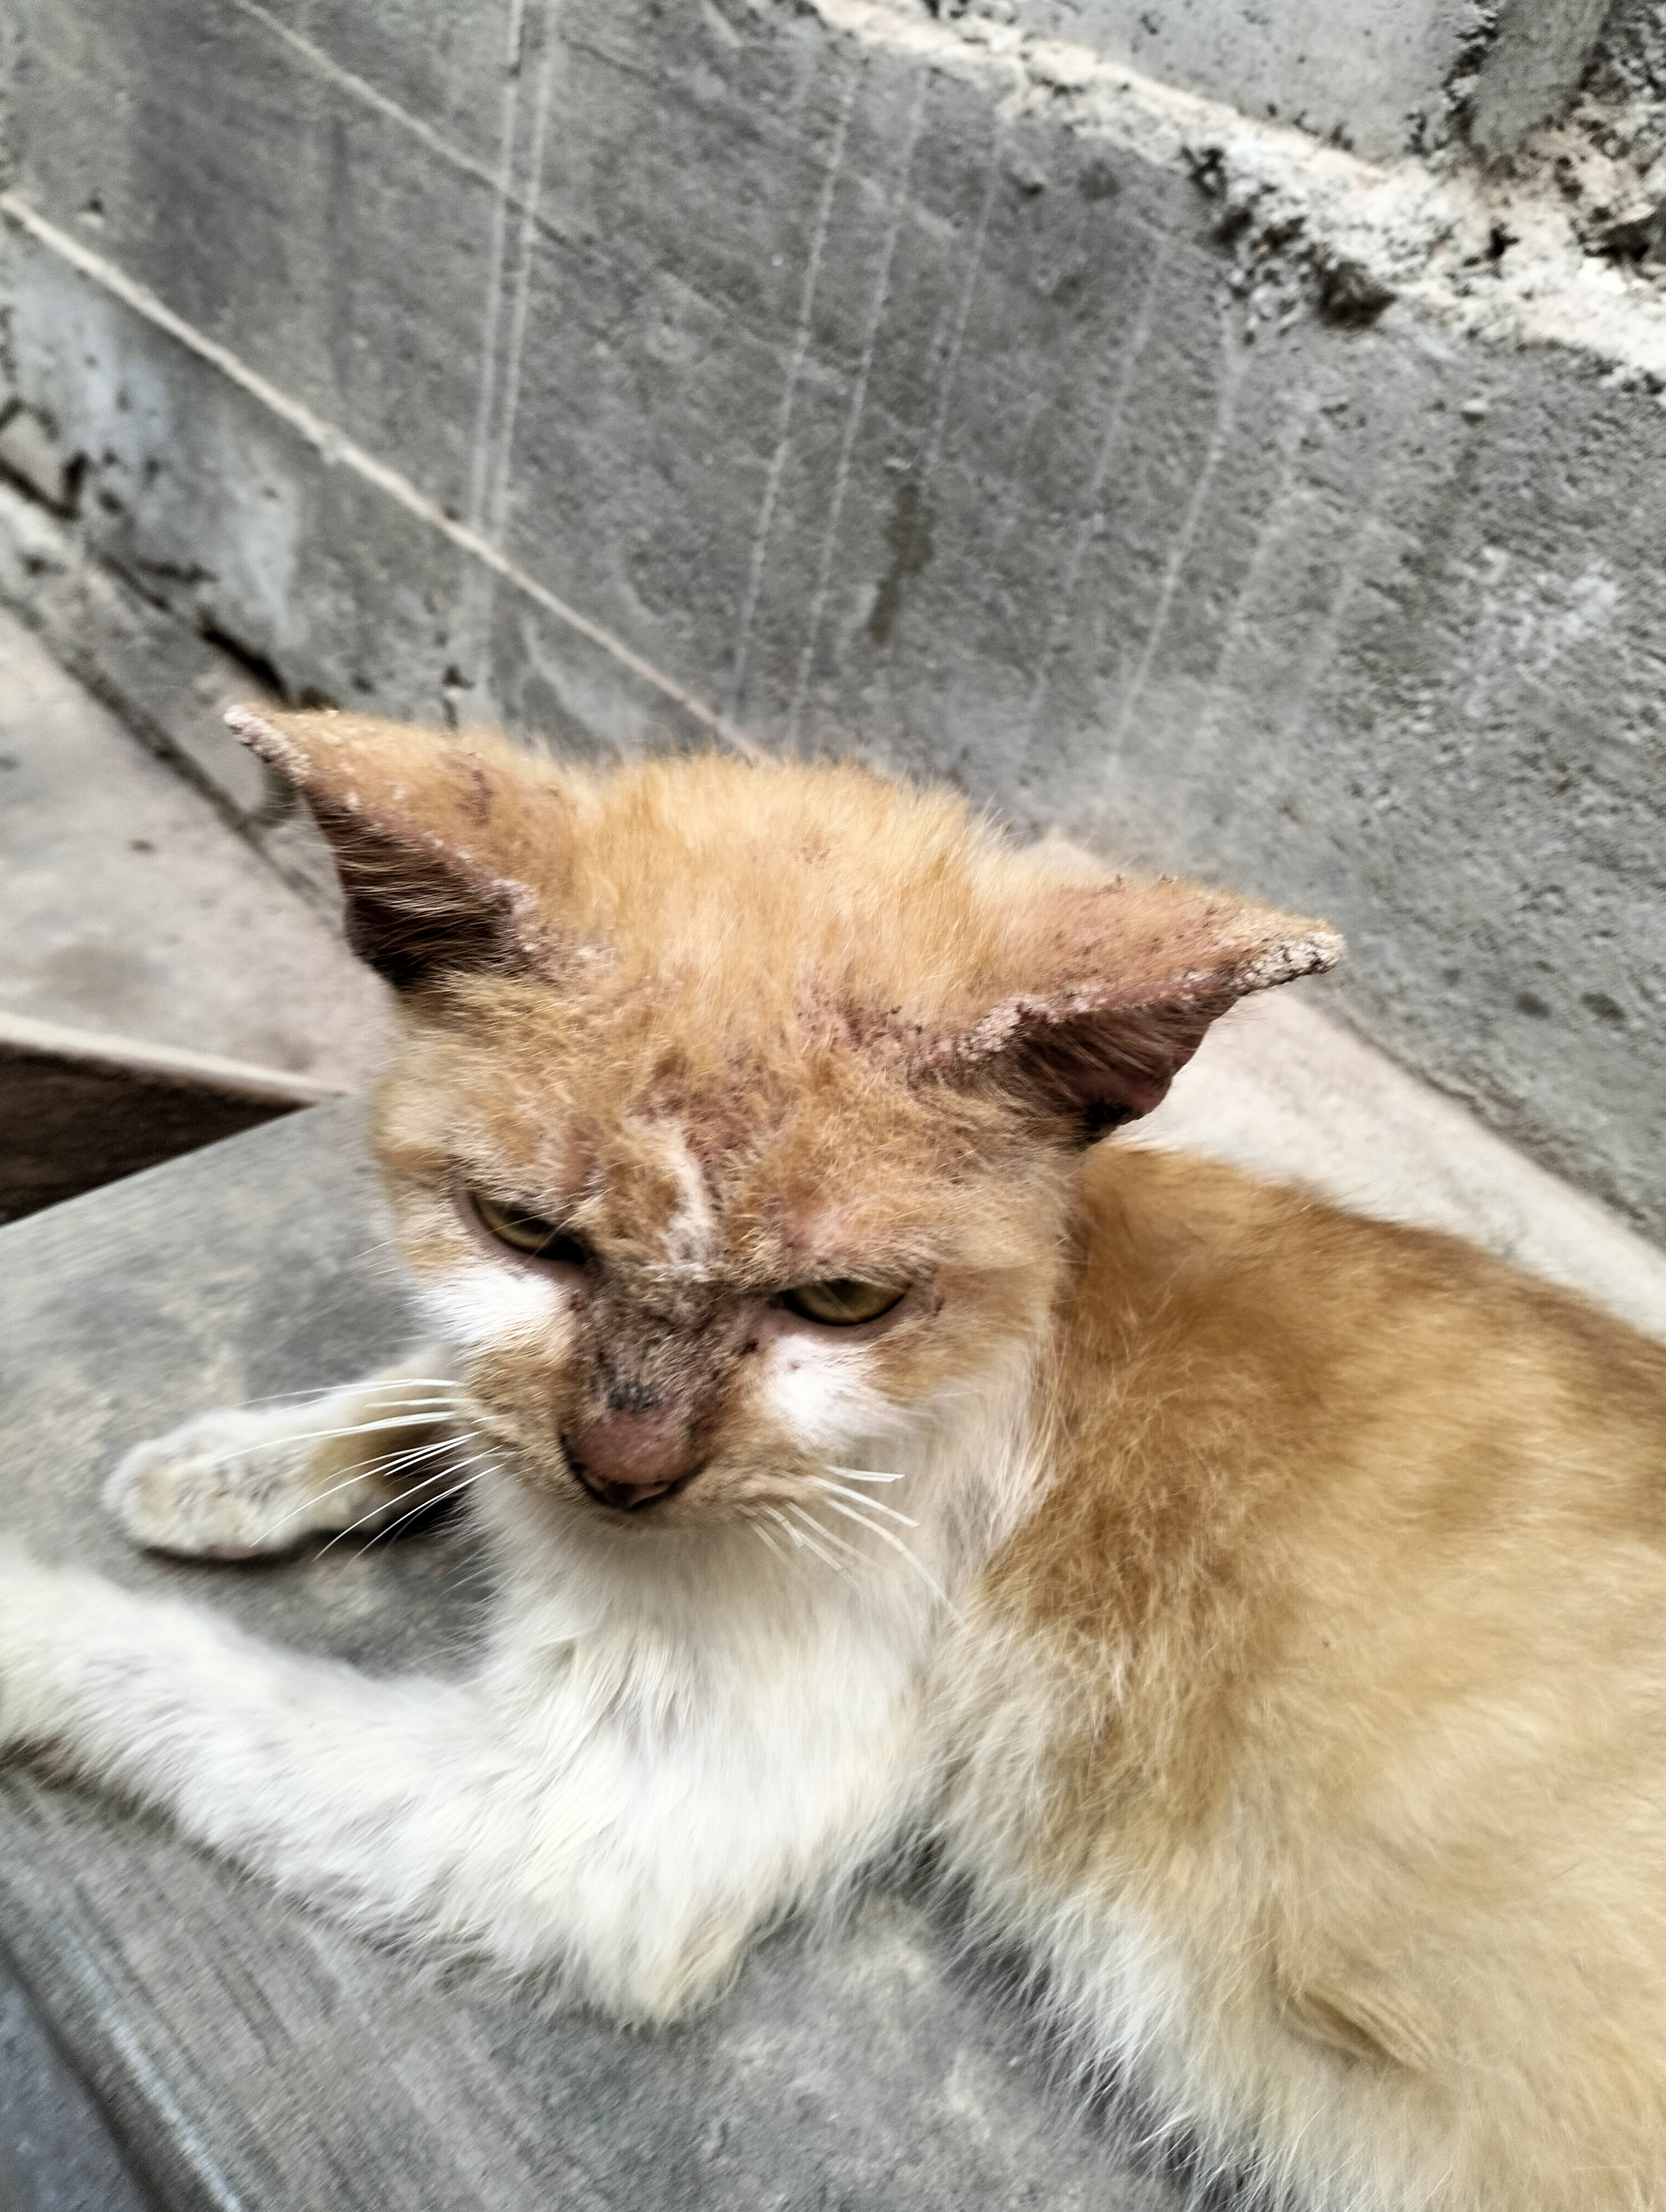cemong: (197, 640, 1384, 1596)
